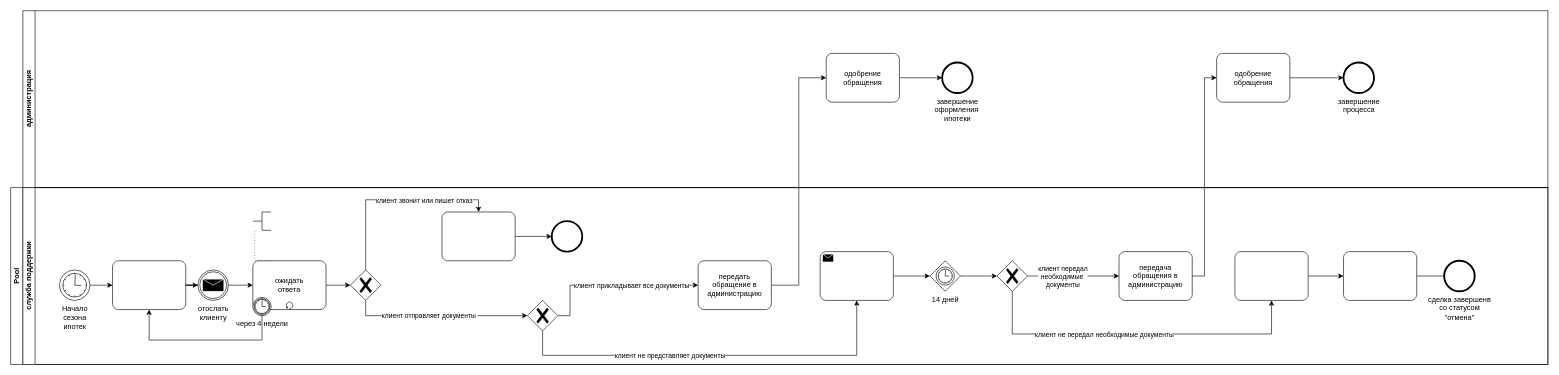
The diagram is 1559 pixels wide and 375 high, and some of its shapes have lost their labels. The shapes that lost their labels are listed below. From the top down, each one's centre as x and y in pixels, then its label:
(261,220): пока клиент не ответит
(478,236): обновление обращения
(566,236): архивация работы
(149,285): подготовить предложение по ипотеке
(856,275): отправка сообщения о непогашенных документах
(1271,275): обновление документов фактической информацией
(1380,275): архивация
